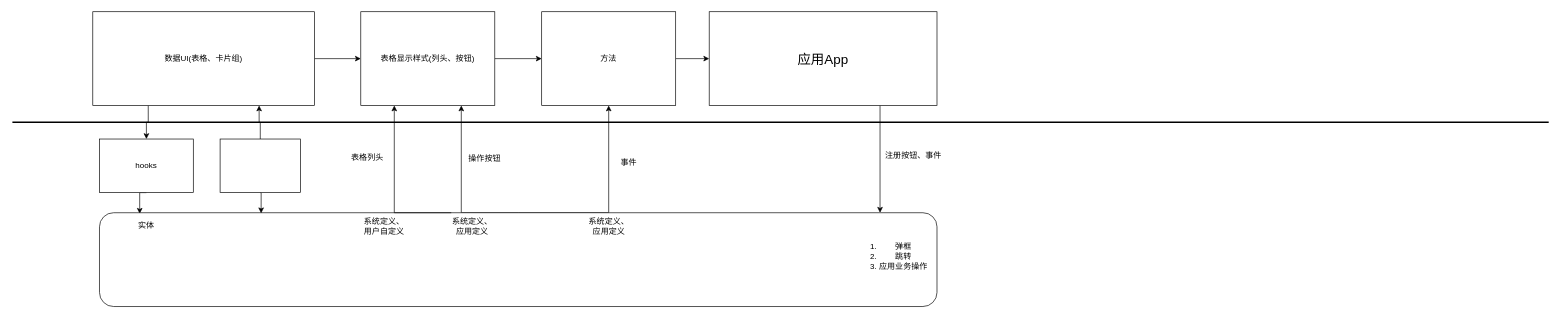
The diagram is 1560 pixels wide and 318 high, and some of its shapes have lost their labels. The box of each missing label's shape, as (x1, y1, x2, y2) in pixels:
业务层(Typescript): (99, 212, 937, 307)
实体API: (219, 138, 300, 193)
